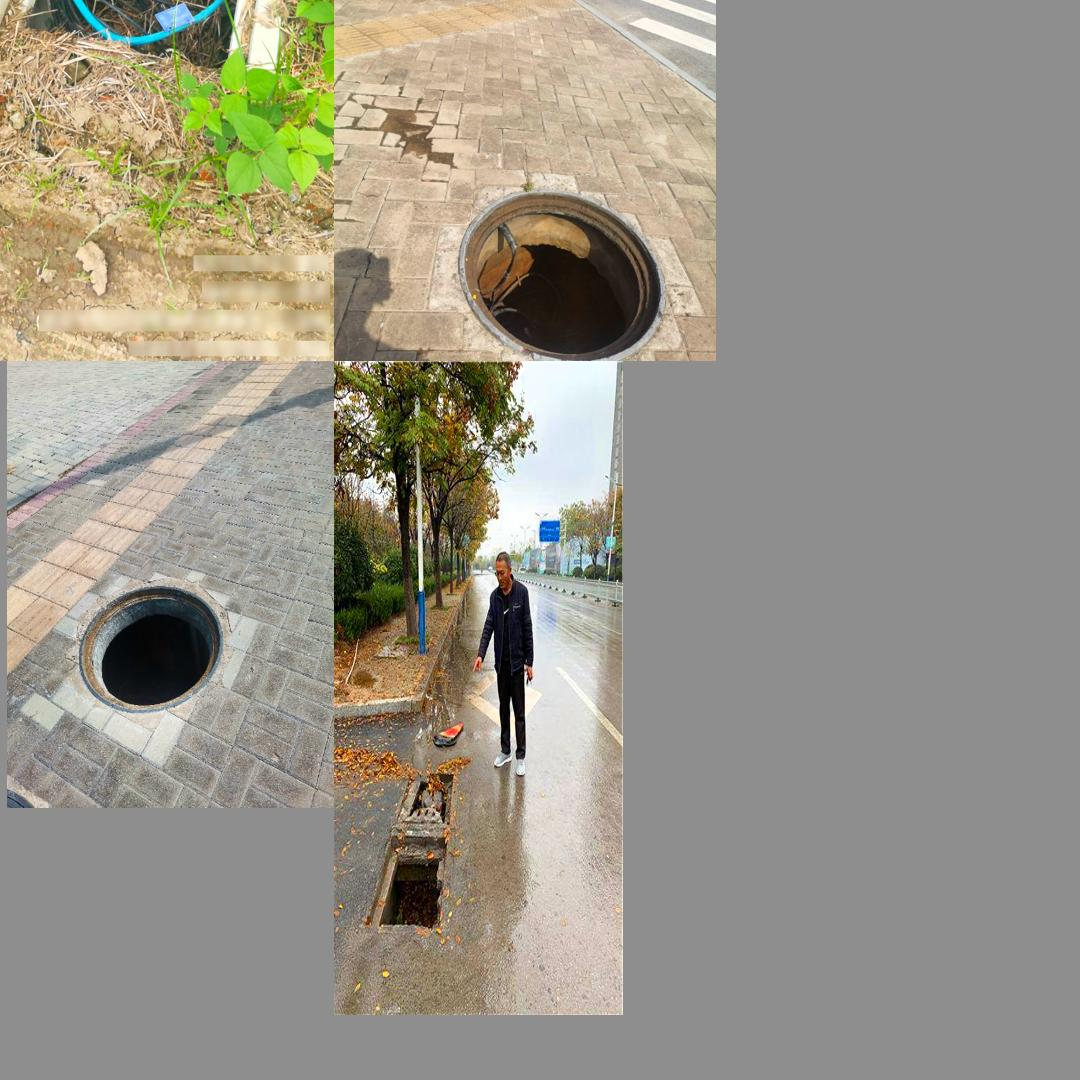lose: (440, 195, 672, 359), (0, 0, 302, 99), (77, 584, 222, 711), (366, 759, 458, 936)
